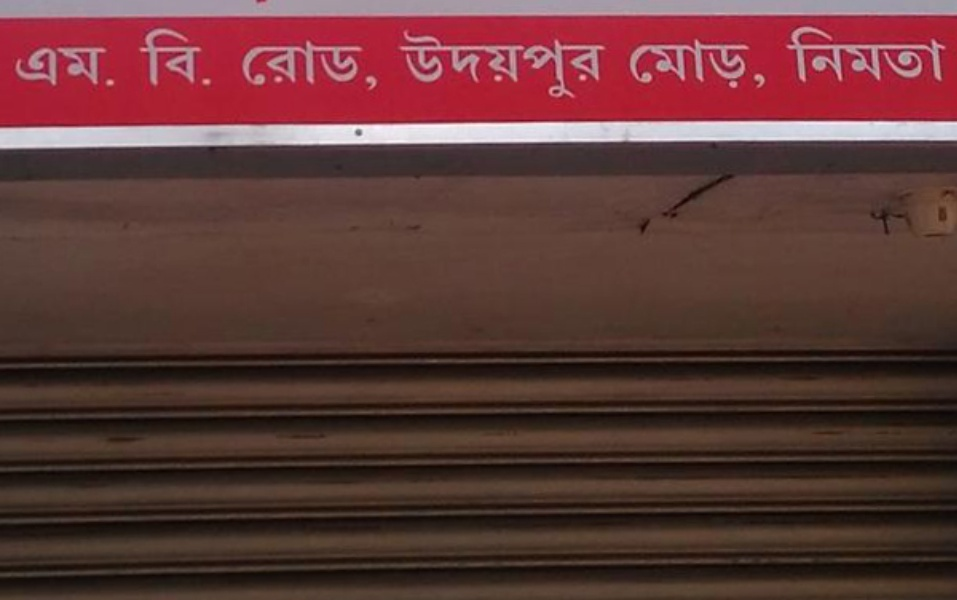text: (401, 28, 416, 98), (417, 28, 432, 98), (433, 28, 448, 98), (449, 28, 464, 98), (465, 28, 480, 98), (481, 28, 496, 98), (497, 28, 512, 98), (513, 28, 528, 98), (529, 28, 544, 98), (545, 28, 560, 98), (561, 28, 576, 98), (577, 28, 592, 98), (145, 24, 160, 90), (161, 24, 176, 90), (177, 24, 192, 90), (193, 24, 208, 90), (801, 23, 816, 83), (817, 23, 832, 83), (833, 23, 848, 83), (849, 23, 864, 83), (865, 23, 880, 83), (881, 23, 896, 83), (897, 23, 912, 83), (913, 23, 928, 83), (929, 23, 944, 83), (593, 28, 605, 98), (241, 37, 256, 91), (257, 37, 272, 91), (273, 37, 288, 91), (289, 37, 304, 91), (305, 37, 320, 91), (321, 37, 336, 91), (337, 37, 352, 91), (353, 37, 368, 91), (641, 37, 656, 91), (657, 37, 672, 91), (673, 37, 688, 91), (689, 37, 704, 91), (705, 37, 720, 91), (721, 37, 736, 91), (737, 37, 752, 91), (787, 23, 800, 83), (627, 37, 640, 91), (753, 37, 766, 91), (17, 45, 32, 88), (33, 45, 48, 88), (49, 45, 64, 88), (65, 45, 80, 88), (81, 45, 96, 88), (97, 45, 112, 88), (369, 37, 380, 91), (138, 24, 144, 90), (945, 23, 950, 83), (235, 37, 240, 91), (209, 24, 213, 90), (10, 45, 16, 88), (113, 45, 117, 88)
